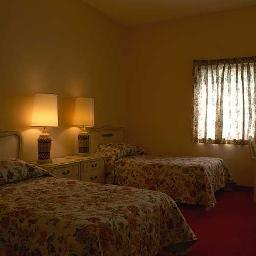Cama: (2, 159, 178, 255), (106, 143, 225, 201)
Ventana: (193, 61, 255, 141)
